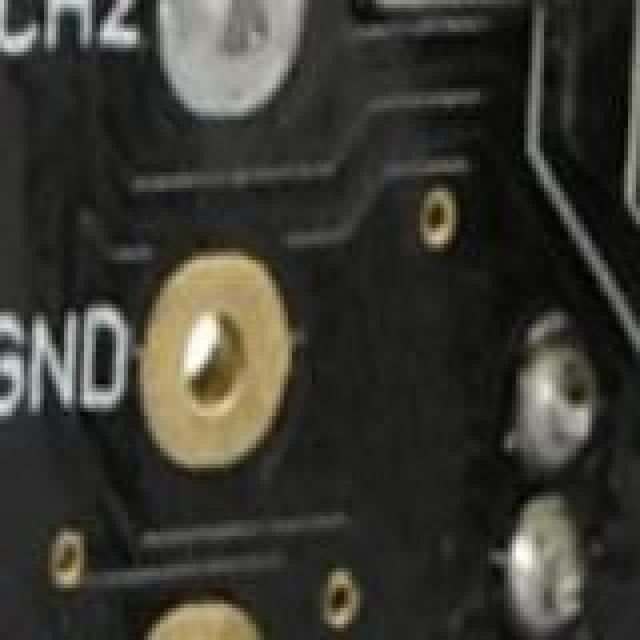battery: (596, 0, 640, 556)
